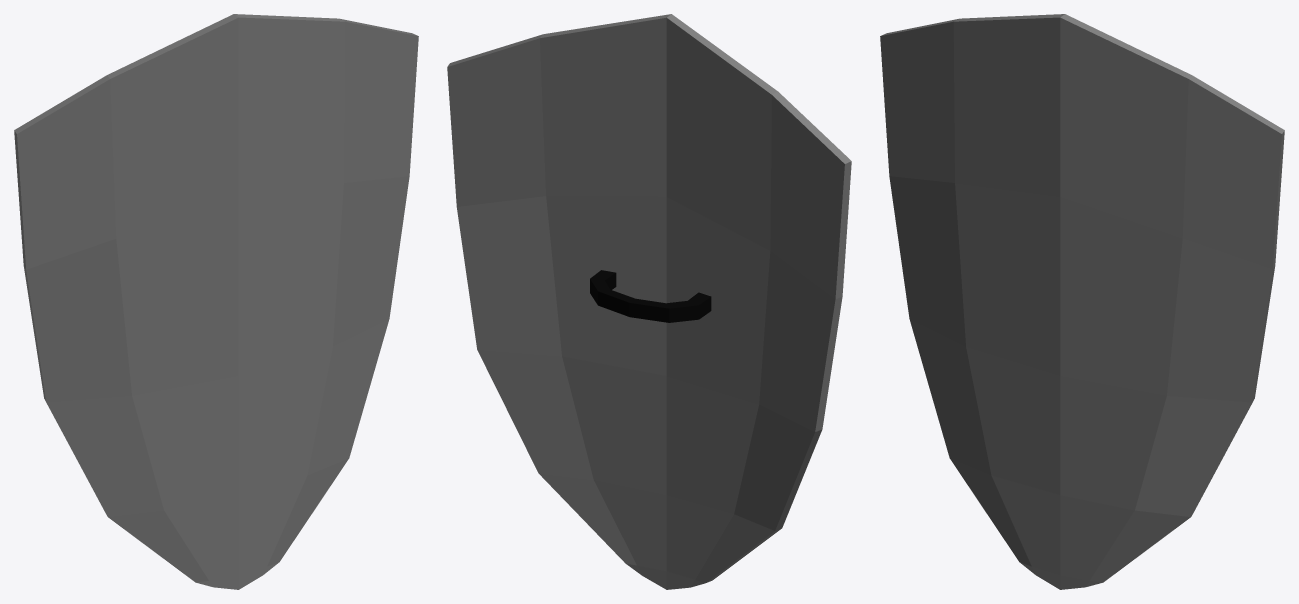
Rendered from Shield_03.fbx.
3 renders of one model, left to right at view 1: azimuth 30°, elevation 25°; view 2: azimuth 150°, elevation 25°; view 3: azimuth 330°, elevation 25°, orthographic.
Parts seen in each view (by area): view 1: Shield_03; view 2: Shield_03; view 3: Shield_03.
Boxes of the visible parts, x1=… form: Shield_03: x1=14, y1=14, x2=418, y2=589; Shield_03: x1=447, y1=14, x2=851, y2=589; Shield_03: x1=880, y1=14, x2=1284, y2=589.
Size of the model in its own units: 46.73 by 63.61 by 7.15.
